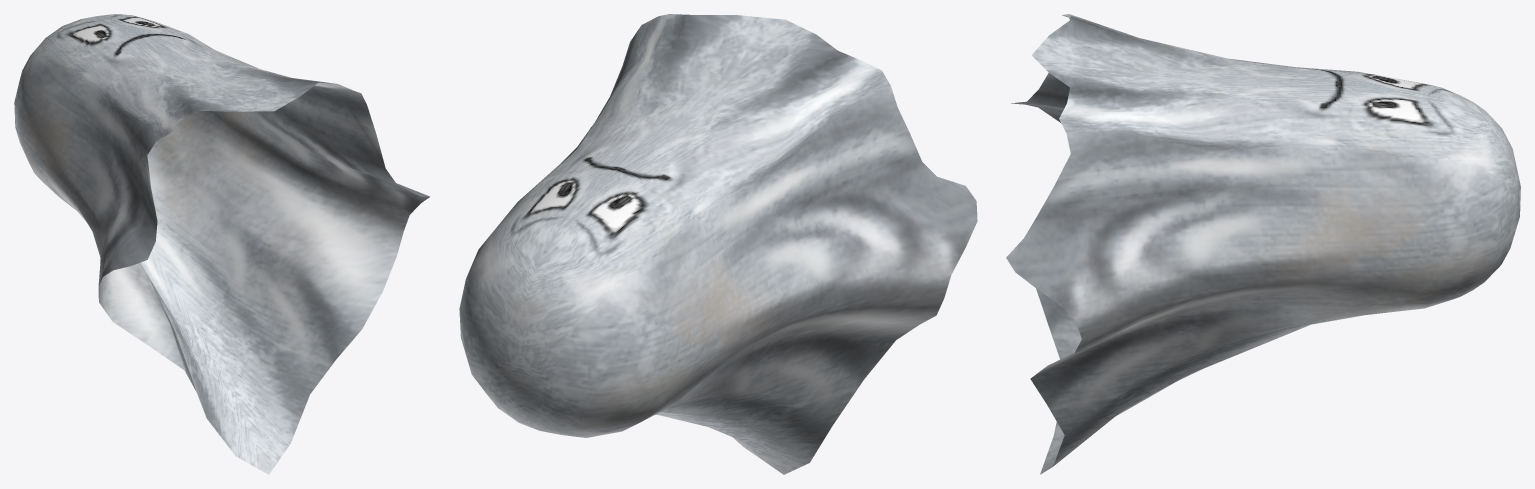
File: ghost.glb
3 renders of one model, left to right at view 1: azimuth 30°, elevation 25°; view 2: azimuth 150°, elevation 25°; view 3: azimuth 270°, elevation 25°, orthographic. The views are drawn at different scales.
Visible parts, largest first — view 1: Object; view 2: Object; view 3: Object.
Boxes of the visible parts, x1,y1,x2,y2 form: Object: (14, 14, 429, 474); Object: (459, 14, 977, 474); Object: (1006, 14, 1520, 474).
Size of the model in its own units: 3.25 by 3.61 by 3.98.
Materials: 1 (1 with a texture image).
